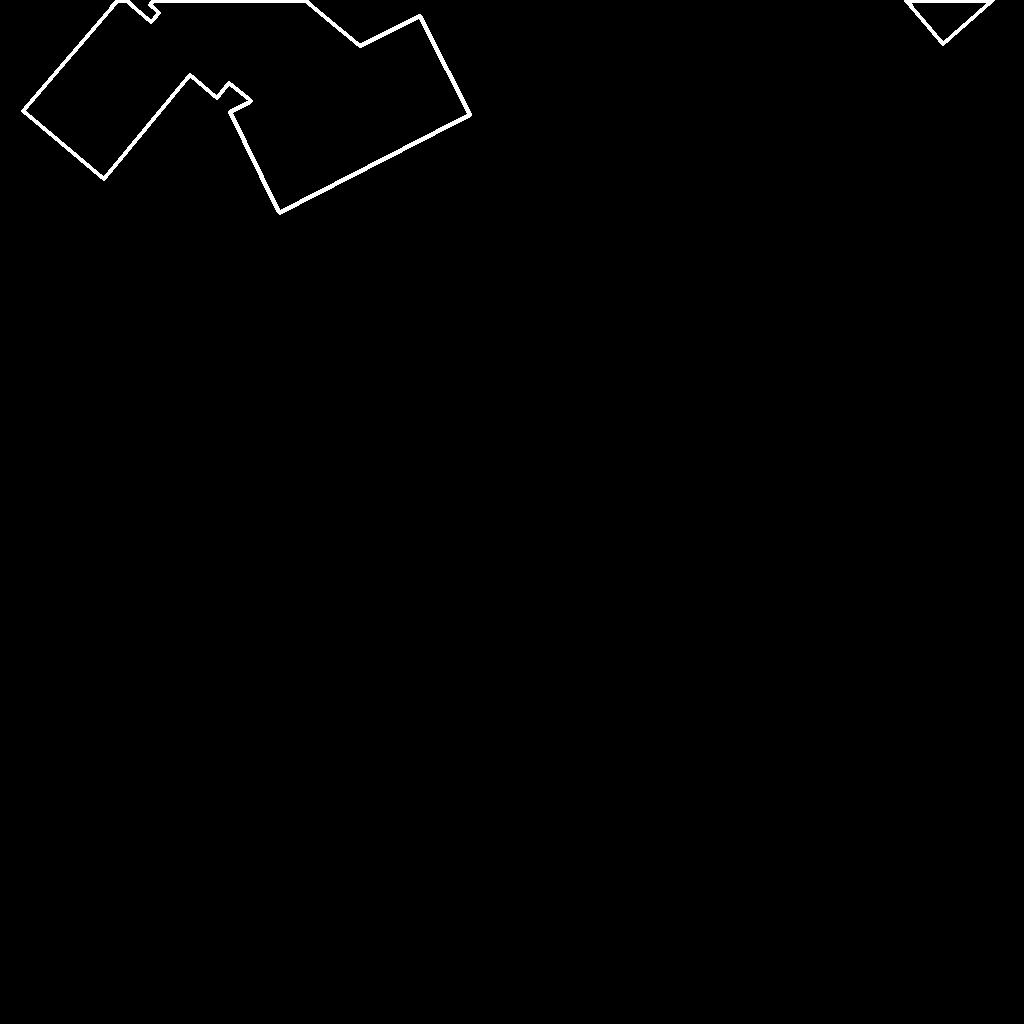building: (23, 0, 471, 214), (905, 0, 994, 45)
